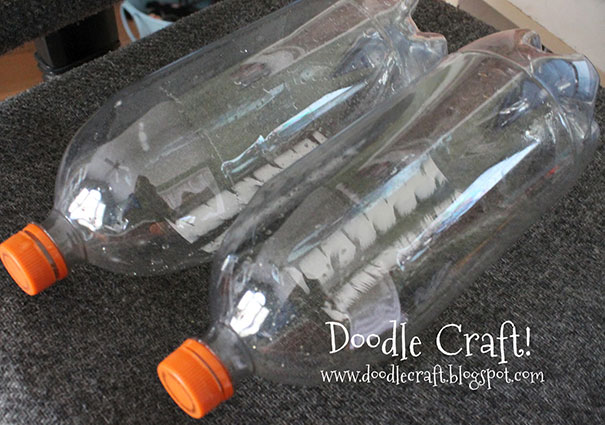plastic_bottle: (104, 10, 605, 425), (1, 1, 565, 334)
